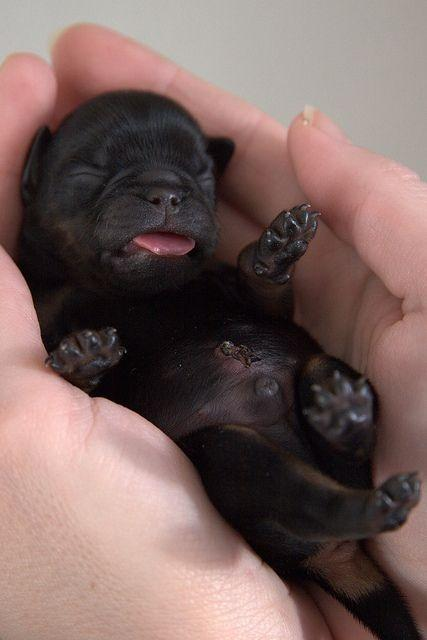puppy-dog: (13, 84, 425, 640)
